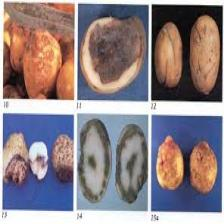Defected potato: (22, 24, 64, 96), (190, 11, 220, 96), (155, 14, 182, 93), (187, 134, 217, 198), (157, 127, 183, 197), (2, 127, 28, 191), (49, 129, 76, 190), (55, 56, 76, 102)
